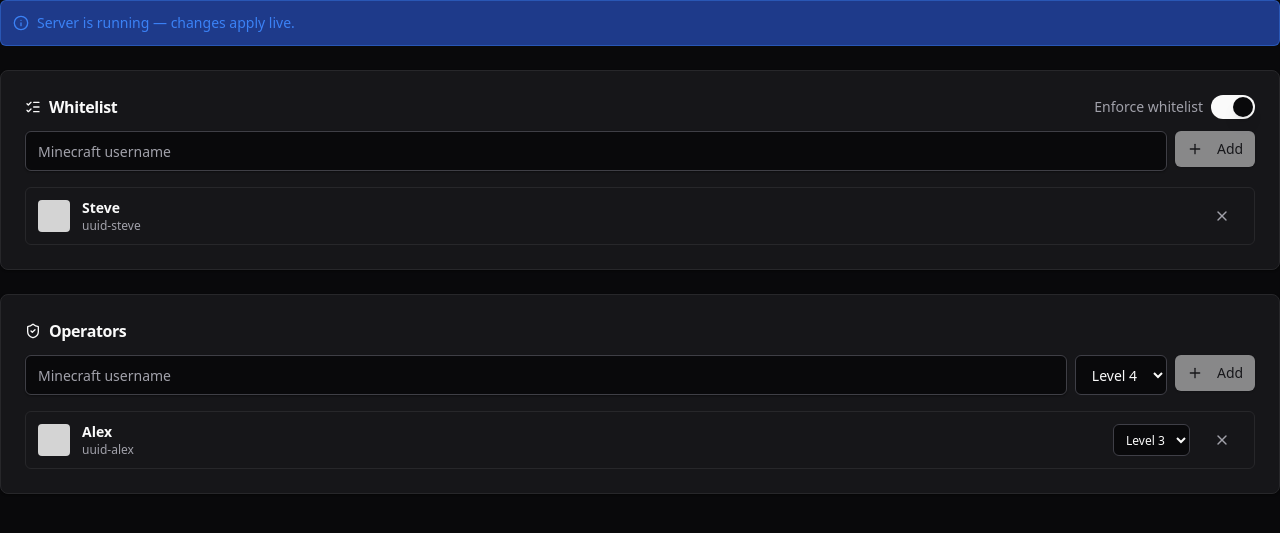
Test case: PlayersTab › keeps Add disabled and shows the hint for an invalid username
Expected: the text "Steve" is shown, top-left (82, 198), bottom-right (120, 217)
Type "bad name!" into the field labelled "username" below "Enforce whitelist" at (596, 151), box top-left (25, 131), bottom-right (1167, 171)
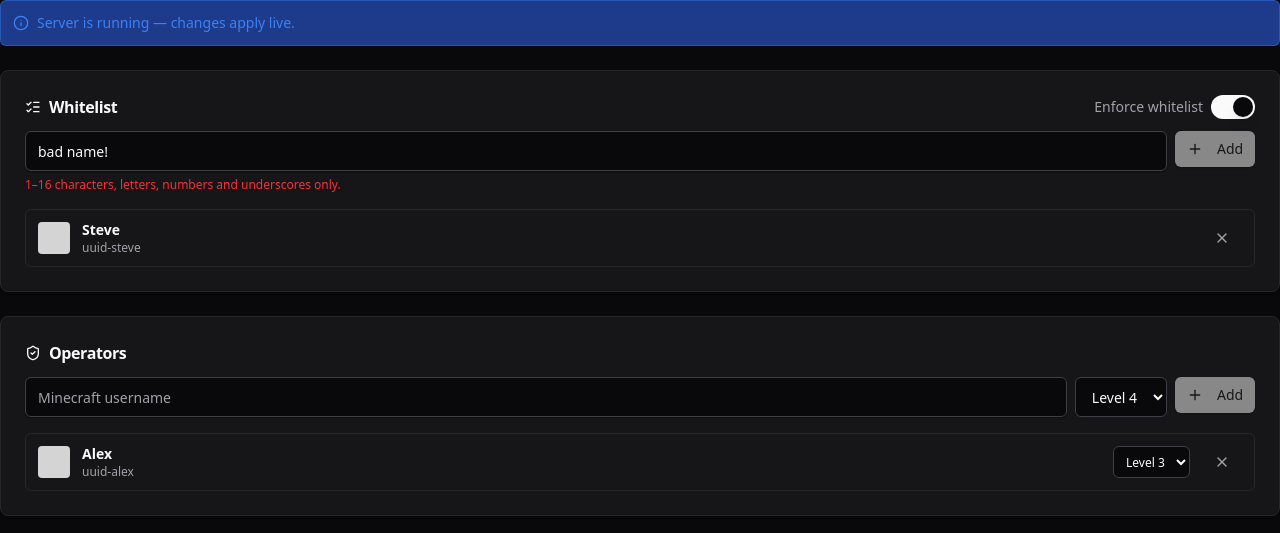
Expected: the button "Add" below "Enforce whitelist" is disabled, top-left (1175, 131), bottom-right (1255, 167)
Result: the text "1–16 characters, letters, numbers and underscores only." is shown at top-left (25, 176), bottom-right (341, 193)
